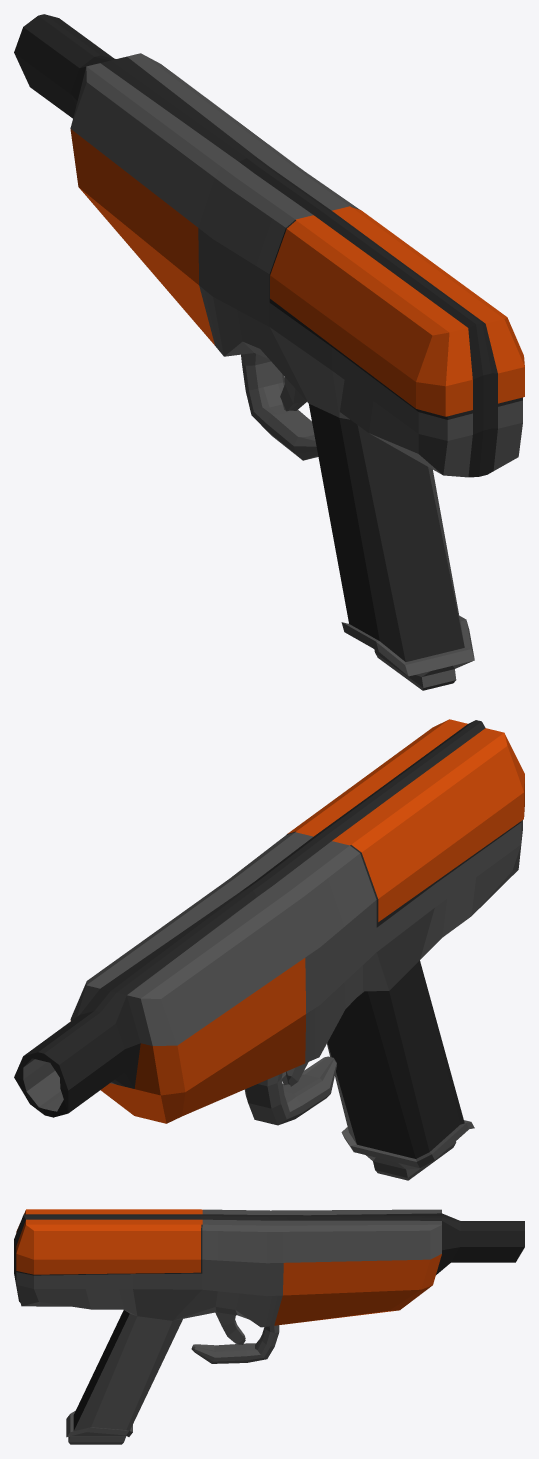
File: Handgun_1.fbx
3 renders of one model, top to bottom at view 1: azimuth 30°, elevation 25°; view 2: azimuth 150°, elevation 25°; view 3: azimuth 270°, elevation 25°, orthographic. The views are drawn at different scales.
Parts seen in each view (by area): view 1: Cube; view 2: Cube; view 3: Cube.
Boxes of the visible parts, box(x1,y1,x2,y2) form: Cube: box(14, 14, 524, 690); Cube: box(14, 719, 524, 1180); Cube: box(14, 1209, 524, 1444).
Size of the model in its own units: 62.39 by 217 by 446.
